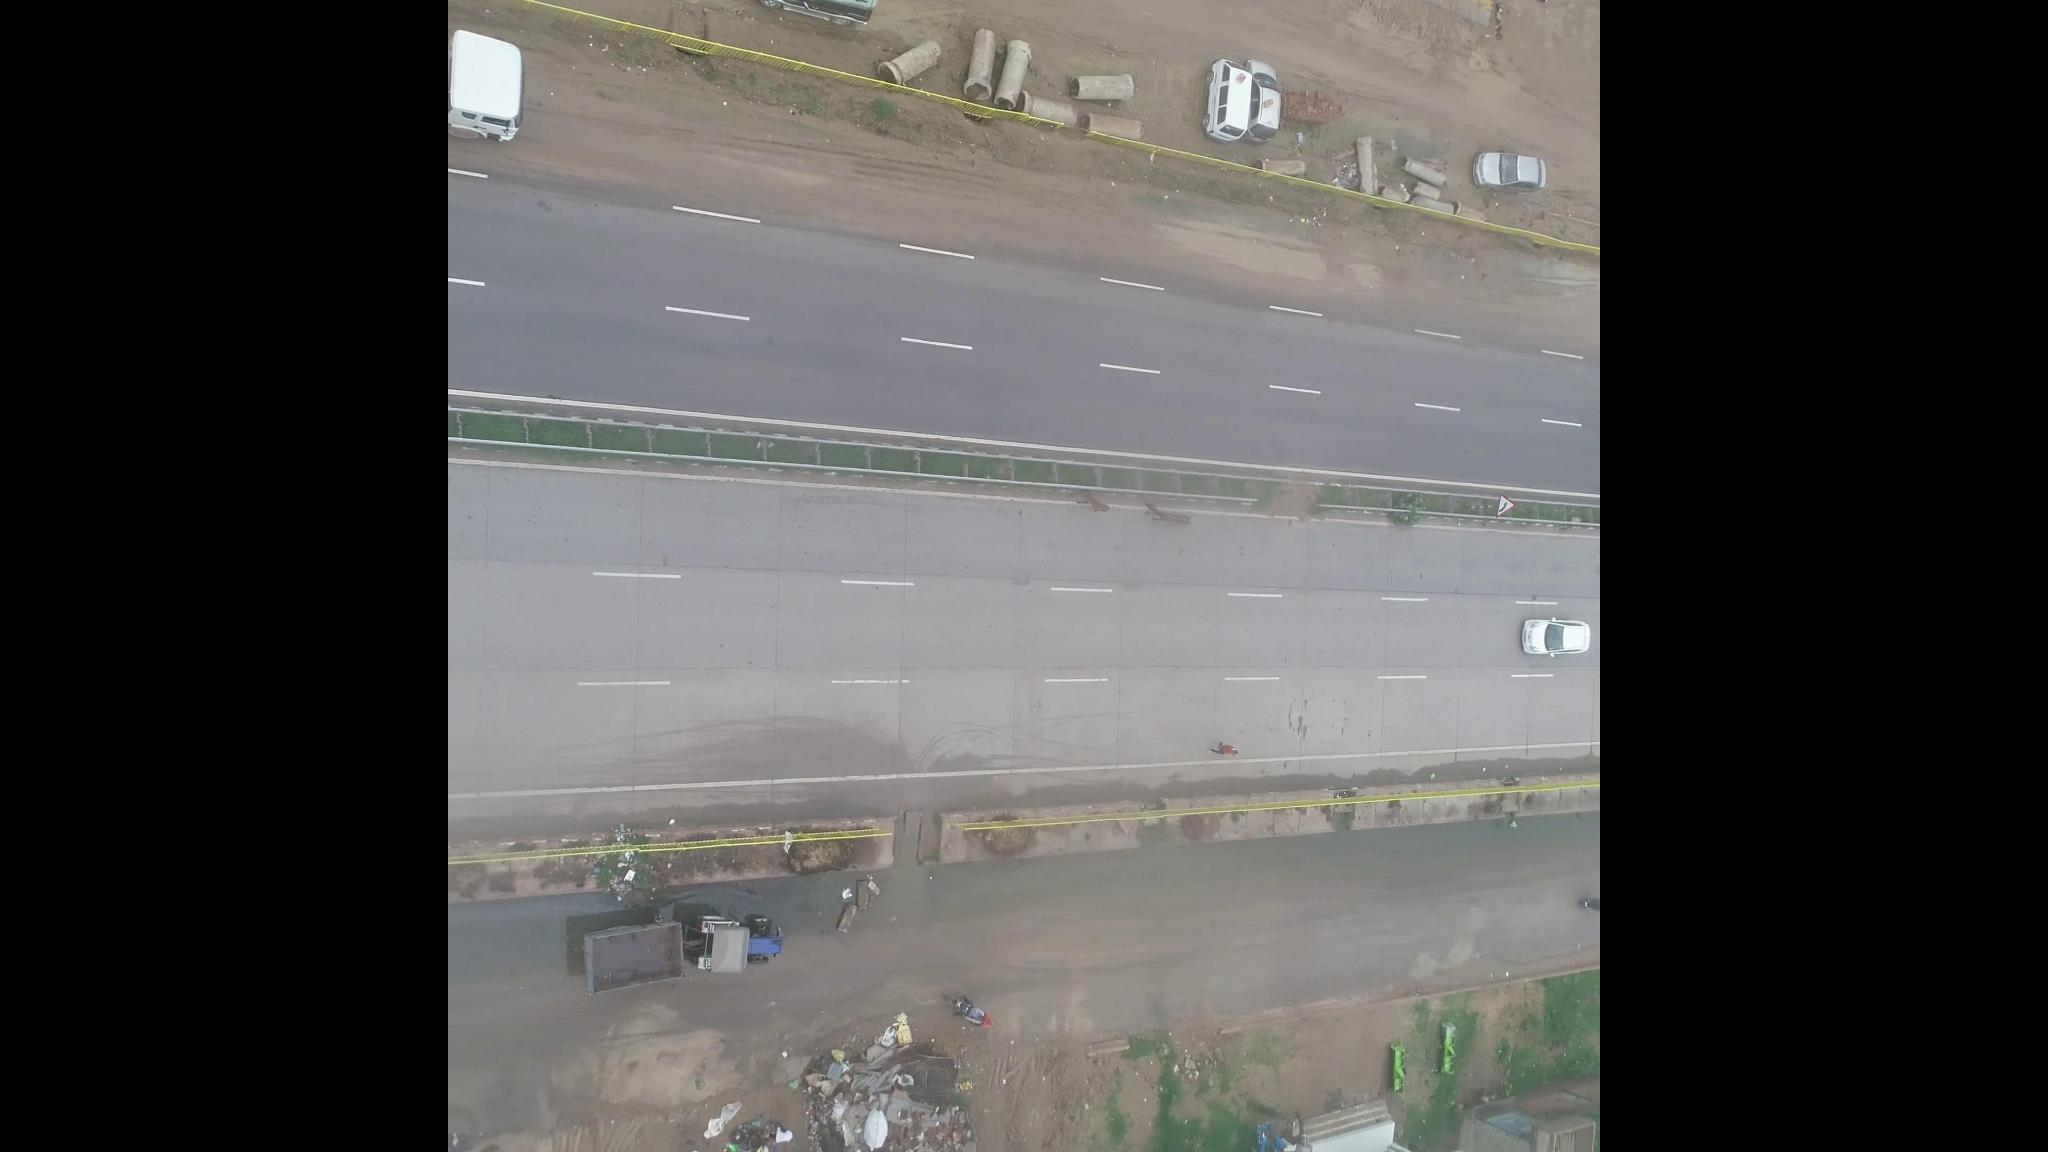Muddy_road: (556, 60, 892, 248), (1267, 191, 1587, 347), (940, 129, 1245, 279)
